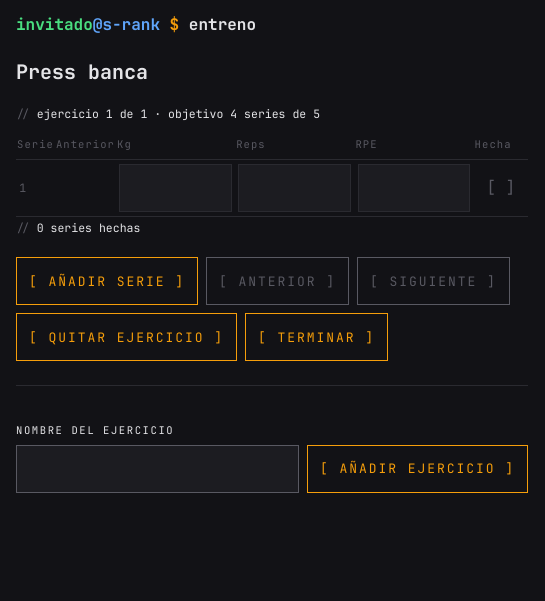
Test: el descanso se puede saltar
Click the button named "Serie 1, pendiente" at (501, 188), box [477, 164, 525, 212]
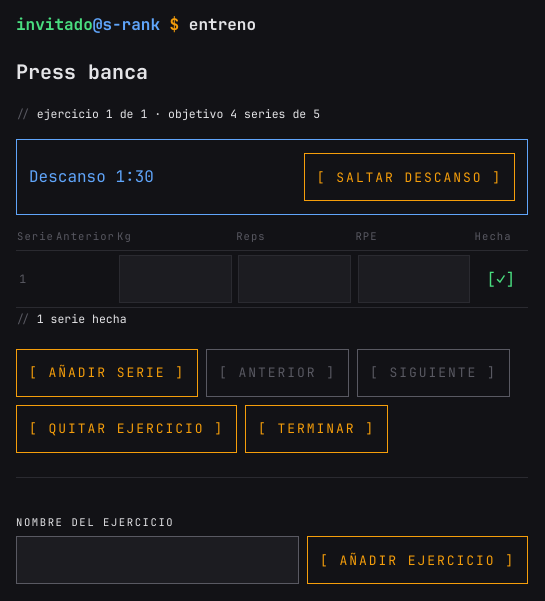
Click the button "[ SALTAR DESCANSO ]" at (409, 177), box [304, 153, 515, 201]
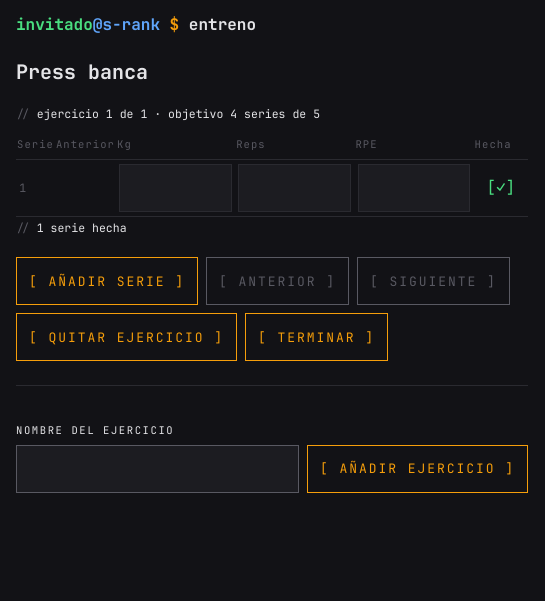
Expected: the text "Descanso " is gone
